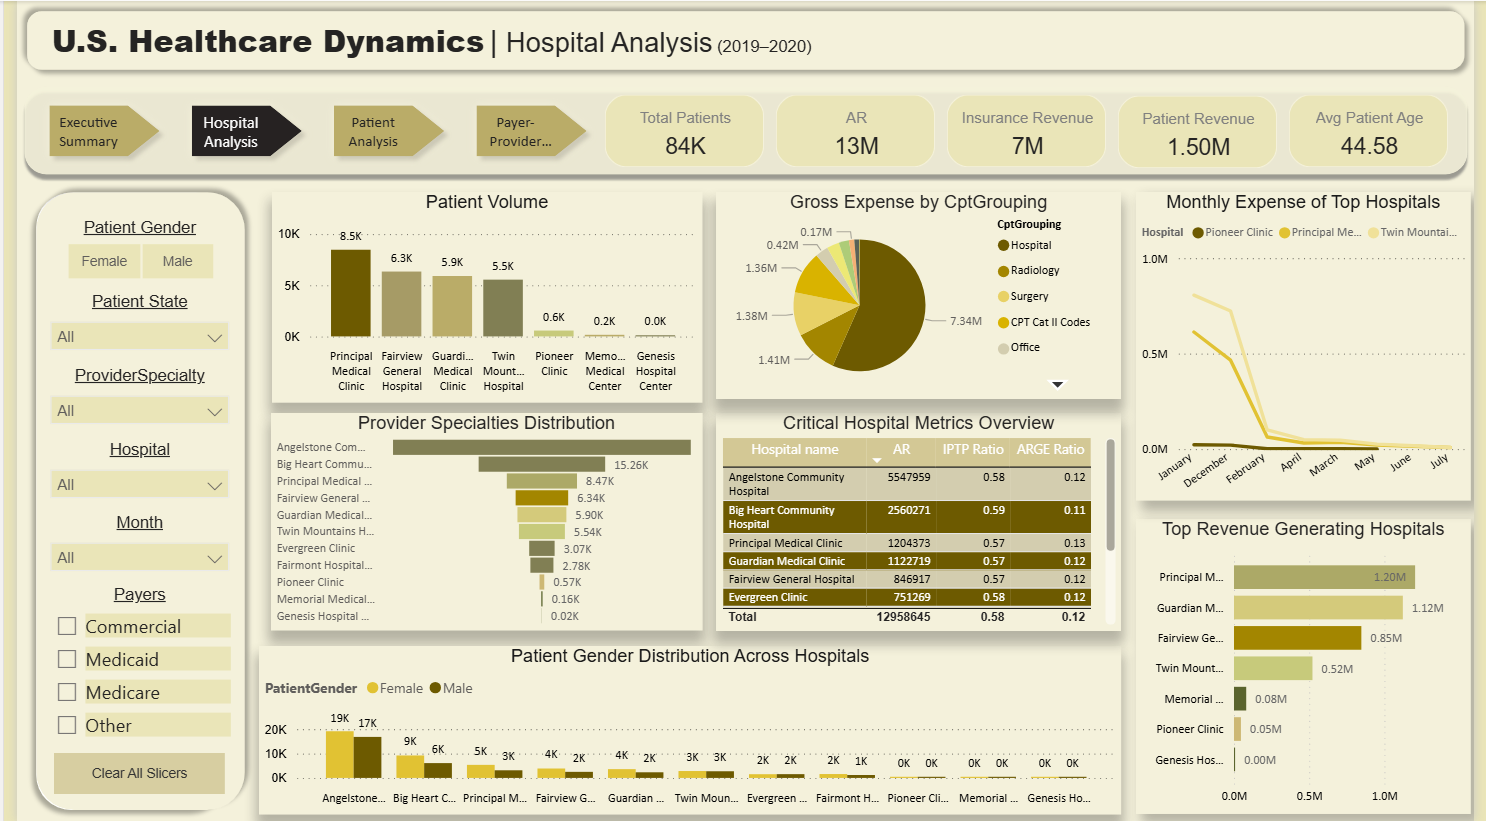

The page's visual inventory and layout, read from the dashboard file:
{"tool":"powerbi","page":{"name":"Hospital Analysis","canvas":[1280,720],"ordinal":1},"visuals":[{"type":"shape","box":[0,0,1280,69.4],"z":0},{"type":"shape","box":[8,159.2,188.6,560.4],"z":1000},{"type":"shape","box":[8,159.2,201,560.4],"z":2000},{"type":"shape","box":[0,68.5,1280.2,90.4],"z":3000},{"type":"cardVisual","title":"Total Patients","fields":{"Data":["Healthcare_dataset.Total Patients"]},"box":[511,79,150.1,70.2],"z":4000},{"type":"cardVisual","fields":{"Data":["Healthcare_dataset.Total Revenue"]},"box":[661.2,79,150.1,70.2],"z":5000},{"type":"cardVisual","fields":{"Data":["Healthcare_dataset.Insurance Revenue"]},"box":[811.3,79,150.1,70.2],"z":6000},{"type":"cardVisual","fields":{"Data":["Healthcare_dataset.Patient Revenue"]},"box":[961.5,79.9,150.1,70.2],"z":7000},{"type":"cardVisual","fields":{"Data":["Healthcare_dataset.Avg Patient Age"]},"box":[1111.6,79,150.1,70.2],"z":8000},{"type":"shape","box":[0,0,1280,69.3],"z":9000},{"type":"textbox","box":[25.8,10.7,773.3,47.1],"z":10000},{"type":"pageNavigator","box":[19.6,82.7,491.9,63.2],"z":11000},{"type":"actionButton","box":[32.9,660,150.3,36.5],"z":12000},{"type":"slicer","title":"Patient Gender","fields":{"Values":["Healthcare_dataset.PatientGender"]},"box":[19.6,190.4,177,59.6],"z":13000},{"type":"slicer","title":"Patient State","fields":{"Values":["Healthcare_dataset.patientState"]},"box":[19.6,255.3,177,60.5],"z":14000},{"type":"slicer","title":"ProviderSpecialty","fields":{"Values":["Healthcare_dataset.ProviderSpecialty"]},"box":[19.6,320.2,177,59.6],"z":15000},{"type":"slicer","title":"Hospital","fields":{"Values":["Healthcare_dataset.Hospital name "]},"box":[19.6,385.2,177,59.6],"z":16000},{"type":"slicer","title":"Month","fields":{"Values":["Healthcare_dataset.Month Name"]},"box":[19.6,449.2,177,59.6],"z":17000},{"type":"slicer","title":"Payers","fields":{"Values":["Healthcare_dataset.PayerName"]},"box":[23.1,512.4,169.9,141.4],"z":18000},{"type":"barChart","title":"Top Revenue Generating Hospitals","fields":{"Category":["Healthcare_dataset.Hospital name "],"Y":["Sum(Healthcare_dataset.Expenses)"]},"box":[982.5,455.2,293.9,258.7],"z":19000},{"type":"lineClusteredColumnComboChart","title":"Patient Volume","fields":{"Category":["Healthcare_dataset.Hospital name "],"Y":["Healthcare_dataset.Total Patients"]},"box":[223.5,167.7,377.7,184.8],"z":20000},{"type":"stackedAreaChart","title":"Monthly Expense of Top Hospitals","fields":{"Category":["Healthcare_dataset.Month Name"],"Y":["Sum(Healthcare_dataset.Expenses)"],"Series":["Healthcare_dataset.Hospital name "]},"box":[982.5,167.7,293.9,271.3],"z":21000},{"type":"funnel","title":"Provider Specialties Distribution","fields":{"Category":["Healthcare_dataset.Hospital name "],"Y":["CountNonNull(Healthcare_dataset.ProviderSpecialty)"]},"box":[222.6,361.5,378.6,191.1],"z":22000},{"type":"lineClusteredColumnComboChart","title":"Patient Gender Distribution Across Hospitals","fields":{"Series":["Healthcare_dataset.PatientGender"],"Category":["Healthcare_dataset.Hospital name "],"Y":["Healthcare_dataset.Total Patients"]},"box":[212.7,566.1,757.2,147.8],"z":23000},{"type":"pieChart","title":"Gross Expense by CptGrouping","fields":{"Y":["Sum(Healthcare_dataset.Expenses)"],"Category":["Healthcare_dataset.CptGrouping"]},"box":[613.9,167.7,356.1,182.1],"z":24000},{"type":"tableEx","title":"Critical Hospital Metrics Overview","fields":{"Values":["Healthcare_dataset.Hospital name ","Healthcare_dataset.AR","Healthcare_dataset.IPTP Ratio","Healthcare_dataset.ARGE Ratio"]},"box":[613.9,361.5,356.1,191.1],"z":25000}]}

Visuals, with their boxes in screenshot pixels (x1, y1, x2, y2), scaled from the page's 1280x720 canvas onto the 1486x821 screenshot:
shape: 0 0 1485 79
shape: 9 182 228 820
shape: 9 182 243 820
shape: 0 78 1485 181
"Total Patients" cardVisual: 593 90 767 170
cardVisual - Healthcare_dataset.Total Revenue: 768 90 942 170
cardVisual - Healthcare_dataset.Insurance Revenue: 942 90 1116 170
cardVisual - Healthcare_dataset.Patient Revenue: 1116 91 1290 171
cardVisual - Healthcare_dataset.Avg Patient Age: 1290 90 1465 170
shape: 0 0 1485 79
textbox: 30 12 928 66
pageNavigator: 23 94 594 166
actionButton: 38 753 213 794
"Patient Gender" slicer: 23 217 228 285
"Patient State" slicer: 23 291 228 360
"ProviderSpecialty" slicer: 23 365 228 433
"Hospital" slicer: 23 439 228 507
"Month" slicer: 23 512 228 580
"Payers" slicer: 27 584 224 746
"Top Revenue Generating Hospitals" barChart: 1141 519 1482 814
"Patient Volume" lineClusteredColumnComboChart: 259 191 698 402
"Monthly Expense of Top Hospitals" stackedAreaChart: 1141 191 1482 501
"Provider Specialties Distribution" funnel: 258 412 698 630
"Patient Gender Distribution Across Hospitals" lineClusteredColumnComboChart: 247 646 1126 814
"Gross Expense by CptGrouping" pieChart: 713 191 1126 399
"Critical Hospital Metrics Overview" tableEx: 713 412 1126 630
